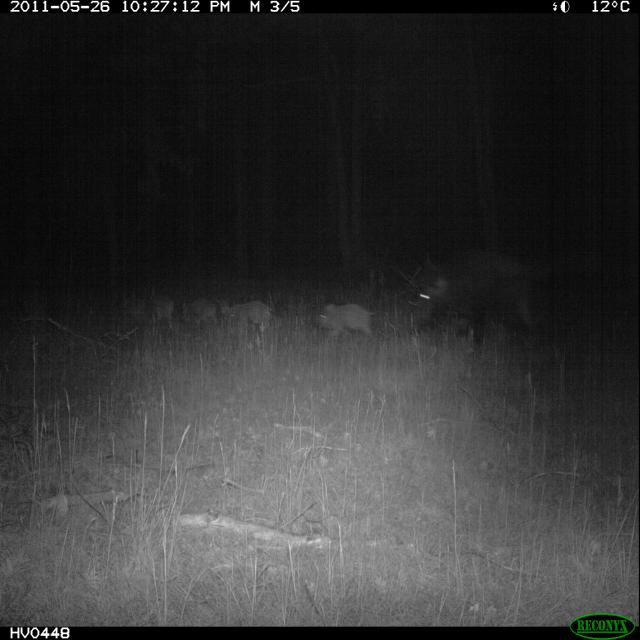boar: (306, 280, 378, 360), (220, 284, 280, 341)
